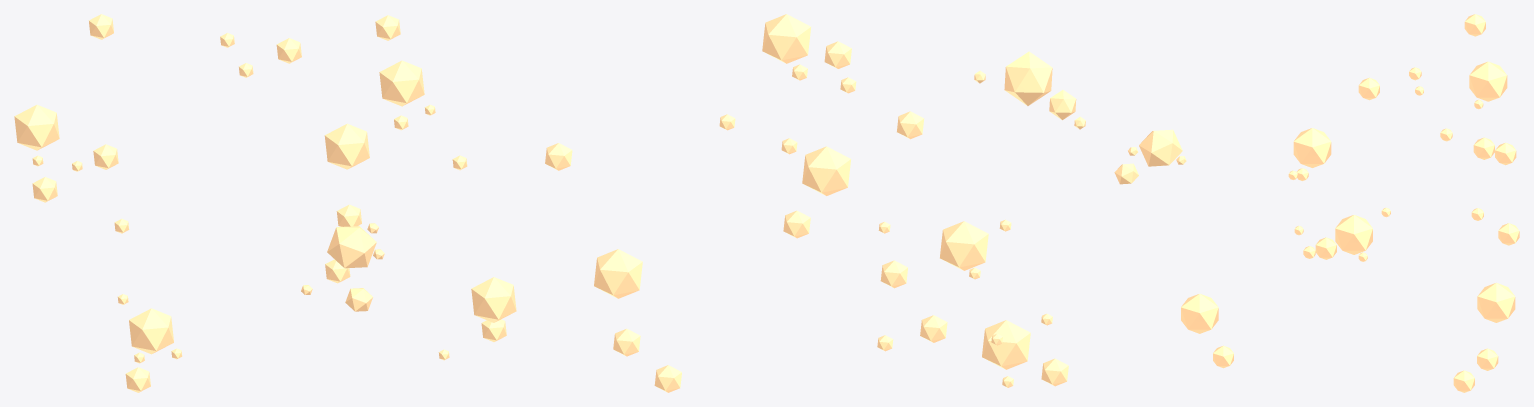
The model's file is lvl1_glow_spheres_end.glb.
The picture shows the model from 3 angles, left to right: view 1: azimuth 30°, elevation 25°; view 2: azimuth 150°, elevation 25°; view 3: azimuth 270°, elevation 25°; orthographic projection. The views are drawn at different scales.
Visible parts, largest first — view 1: glowing spheres end; view 2: glowing spheres end; view 3: glowing spheres end.
Part boxes in pixels (left/top/right/bottom): glowing spheres end: left=14, top=14, right=516, bottom=392; glowing spheres end: left=545, top=14, right=1085, bottom=392; glowing spheres end: left=1114, top=14, right=1519, bottom=392.
Size of the model in its own units: 17.85 by 13.91 by 18.19.
Materials: 1 (1 with a texture image).
